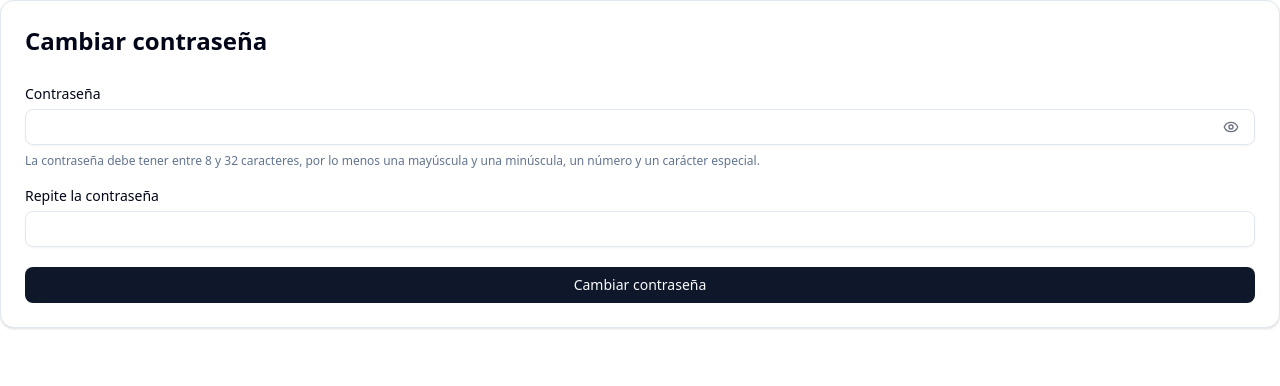
Test: PasswordResetForm › muestra error inesperado si fetch falla
The image size is (1280, 386).
Type "Password1!" into the password field labelled "Contraseña" at (640, 127), box [25,109,1255,145]
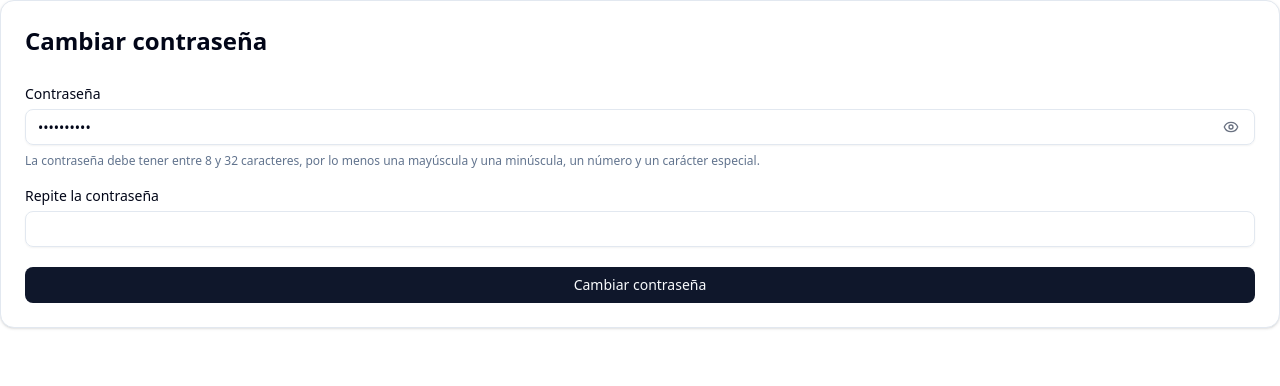
Type "Password1!" into the password field labelled "Repite la contraseña" at (640, 229), box [25,211,1255,247]
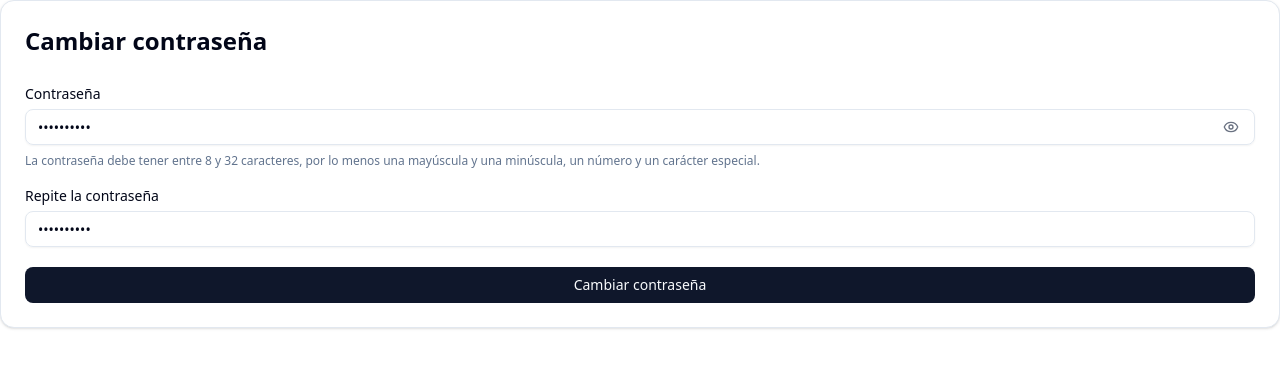
Click the button "Cambiar contraseña" at (640, 285), box [25,267,1255,303]
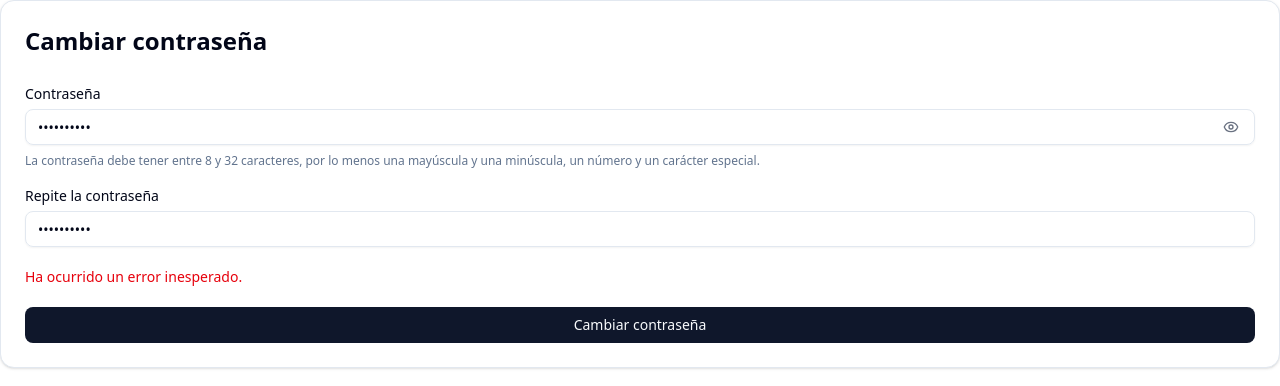
Now the text "Ha ocurrido un error inesperado." is shown, box [25,267,242,286]
